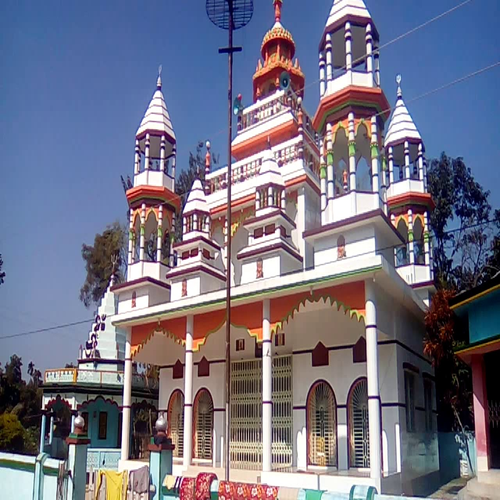Temple: (77, 7, 447, 485)
